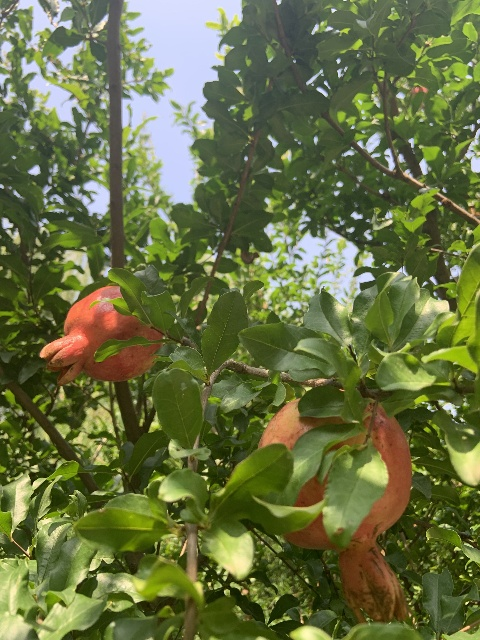ripe: (257, 397, 412, 623), (39, 285, 164, 386)
